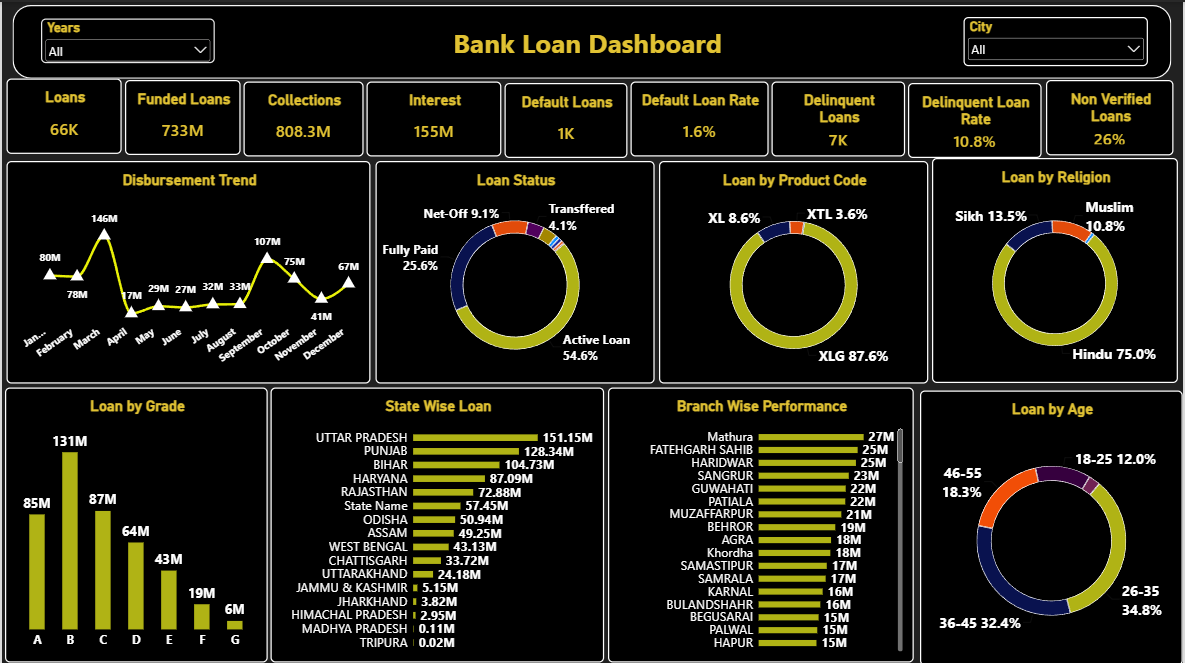

What the dashboard file says about the page in this screenshot:
{"tool":"powerbi","page":{"name":"Dashboard","canvas":[1920,1080],"ordinal":0},"visuals":[{"type":"card","title":"Loans","fields":{"Values":["CountNonNull(Banking Data.Client id)"]},"box":[7.5,125,187.5,122.5],"z":0},{"type":"card","title":"Non Verified Loans","fields":{"Values":["Banking Data.no veri loan %"]},"box":[1698.1,126.9,207.5,122.5],"z":1000},{"type":"card","title":"Funded Loans","fields":{"Values":["Sum(Banking Data.Funded Amount)"]},"box":[200.1,126.9,187.9,122],"z":2000},{"type":"card","title":"Collections","fields":{"Values":["Banking Data.Total Collections"]},"box":[392.8,129.3,195.2,122],"z":3000},{"type":"card","title":"Interest","fields":{"Values":["Sum(Banking Data.Total Rrec int)"]},"box":[592.9,129.3,219.6,122],"z":4000},{"type":"card","title":"Default Loans","fields":{"Values":["Banking Data.Default Loan"]},"box":[817.3,131.8,200.1,122],"z":5000},{"type":"card","title":"Default Loan Rate","fields":{"Values":["Banking Data.Default Loan Rate"]},"box":[1022.3,129.3,224.5,122],"z":6000},{"type":"card","title":"Delinquent Loans","fields":{"Values":["Banking Data.Delinquent Client Count"]},"box":[1251.6,129.3,217.1,122],"z":7000},{"type":"card","title":"Delinquent Loan Rate ","fields":{"Values":["Banking Data.Delinquent Client Rate"]},"box":[1473.6,131.8,217.1,122],"z":8000},{"type":"columnChart","title":"Loan by Grade","fields":{"Category":["Banking Data.Grrade"],"Y":["Sum(Banking Data.Funded Amount)"]},"box":[5,627.5,427.5,447.5],"z":9000},{"type":"donutChart","title":"Loan by Age","fields":{"Category":["Banking Data.Age "],"Y":["Sum(Banking Data.Funded Amount)"]},"box":[1492.5,632.5,427.5,447.5],"z":10000},{"type":"donutChart","title":"Loan Status","fields":{"Category":["Banking Data.Loan Status"],"Y":["Sum(Banking Data.Total Pymnt)"]},"box":[608,258,454,362],"z":11000},{"type":"donutChart","title":"Loan by Product Code","fields":{"Category":["Banking Data.Product Code"],"Y":["Sum(Banking Data.Total Pymnt)"]},"box":[1068,258,438,362],"z":12000},{"type":"donutChart","title":"Loan by Religion","fields":{"Category":["Banking Data.Religion"],"Y":["Sum(Banking Data.Total Pymnt)"]},"box":[1512,254,400,366],"z":13000},{"type":"barChart","title":"State Wise Loan","fields":{"Category":["Banking Data.State Name"],"Y":["Sum(Banking Data.Total Pymnt)"]},"box":[437.5,627.5,542.5,447.5],"z":14000},{"type":"barChart","title":"Branch Wise Performance","fields":{"Category":["Banking Data.Branch Name"],"Y":["Sum(Banking Data.Total Pymnt)"]},"box":[985,627.5,497.5,447.5],"z":15000},{"type":"lineChart","title":"Disbursement Trend","fields":{"Category":["Banking Data.Disbursement Date.Variation.Date Hierarchy.Month"],"Y":["Sum(Banking Data.Funded Amount)"]},"box":[8,258,592,362],"z":16000},{"type":"shape","box":[17.5,5,1885,120],"z":17000},{"type":"slicer","fields":{"Values":["Banking Data.City"]},"box":[1565,25,300,80],"z":18000},{"type":"slicer","fields":{"Values":["Banking Data.Disbursement Date (Years)"]},"box":[62.5,27.5,282.5,72.5],"z":19000},{"type":"textbox","box":[457.5,37.5,987.5,72.5],"z":20000}]}

Visuals, with their boxes in screenshot pixels (x1, y1, x2, y2), scaled from the page's 1920x1080 canvas onto the 1185x663 screenshot:
"Loans" card: [x1=5, y1=77, x2=120, y2=152]
"Non Verified Loans" card: [x1=1048, y1=78, x2=1176, y2=153]
"Funded Loans" card: [x1=123, y1=78, x2=239, y2=153]
"Collections" card: [x1=242, y1=79, x2=363, y2=154]
"Interest" card: [x1=366, y1=79, x2=501, y2=154]
"Default Loans" card: [x1=504, y1=81, x2=628, y2=156]
"Default Loan Rate" card: [x1=631, y1=79, x2=770, y2=154]
"Delinquent Loans" card: [x1=772, y1=79, x2=906, y2=154]
"Delinquent Loan Rate " card: [x1=909, y1=81, x2=1043, y2=156]
"Loan by Grade" columnChart: [x1=3, y1=385, x2=267, y2=660]
"Loan by Age" donutChart: [x1=921, y1=388, x2=1184, y2=662]
"Loan Status" donutChart: [x1=375, y1=158, x2=655, y2=381]
"Loan by Product Code" donutChart: [x1=659, y1=158, x2=929, y2=381]
"Loan by Religion" donutChart: [x1=933, y1=156, x2=1180, y2=381]
"State Wise Loan" barChart: [x1=270, y1=385, x2=605, y2=660]
"Branch Wise Performance" barChart: [x1=608, y1=385, x2=915, y2=660]
"Disbursement Trend" lineChart: [x1=5, y1=158, x2=370, y2=381]
shape: [x1=11, y1=3, x2=1174, y2=77]
slicer - Banking Data.City: [x1=966, y1=15, x2=1151, y2=64]
slicer - Banking Data.Disbursement Date (Years): [x1=39, y1=17, x2=213, y2=61]
textbox: [x1=282, y1=23, x2=892, y2=68]
